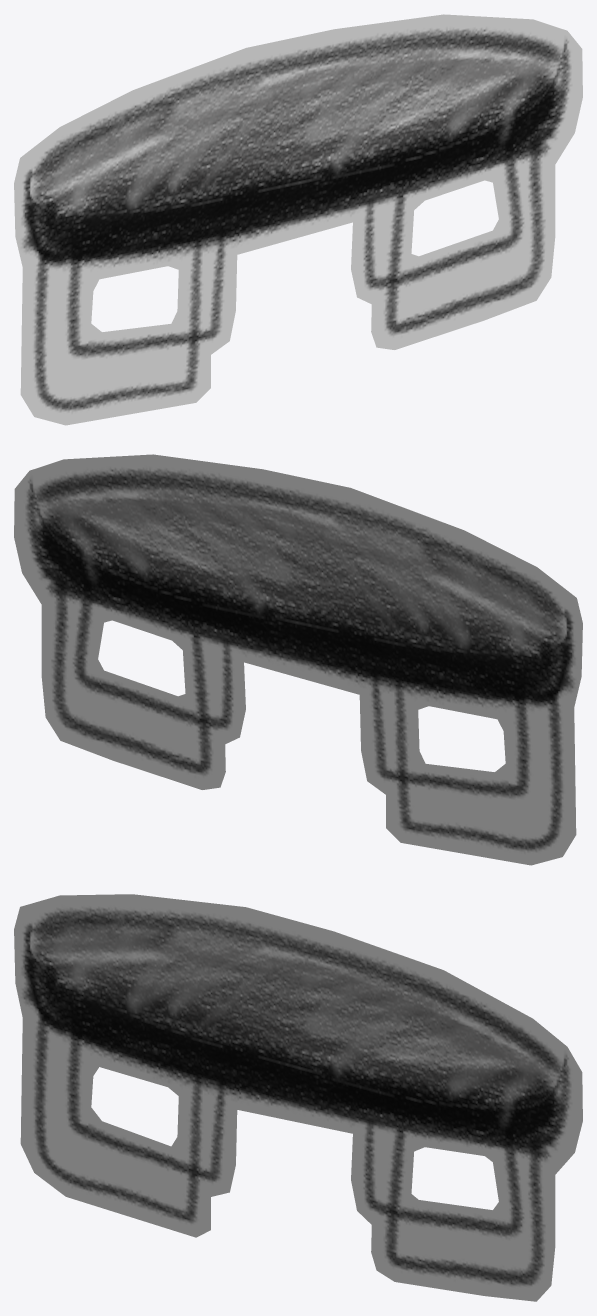
The model's file is Trampolin.fbx.
3 renders of one model, top to bottom at view 1: azimuth 30°, elevation 25°; view 2: azimuth 150°, elevation 25°; view 3: azimuth 330°, elevation 25°, orthographic.
Visible parts, largest first — view 1: Trampolin; view 2: Trampolin; view 3: Trampolin.
Boxes of the visible parts, x1,y1,x2,y2 form: Trampolin: [14, 14, 582, 425]; Trampolin: [14, 454, 582, 865]; Trampolin: [14, 894, 582, 1301].
Bounding box in the file's own units: 95.09 × 54.74 × 2.4e-06.
Materials: 1 (1 with a texture image).
